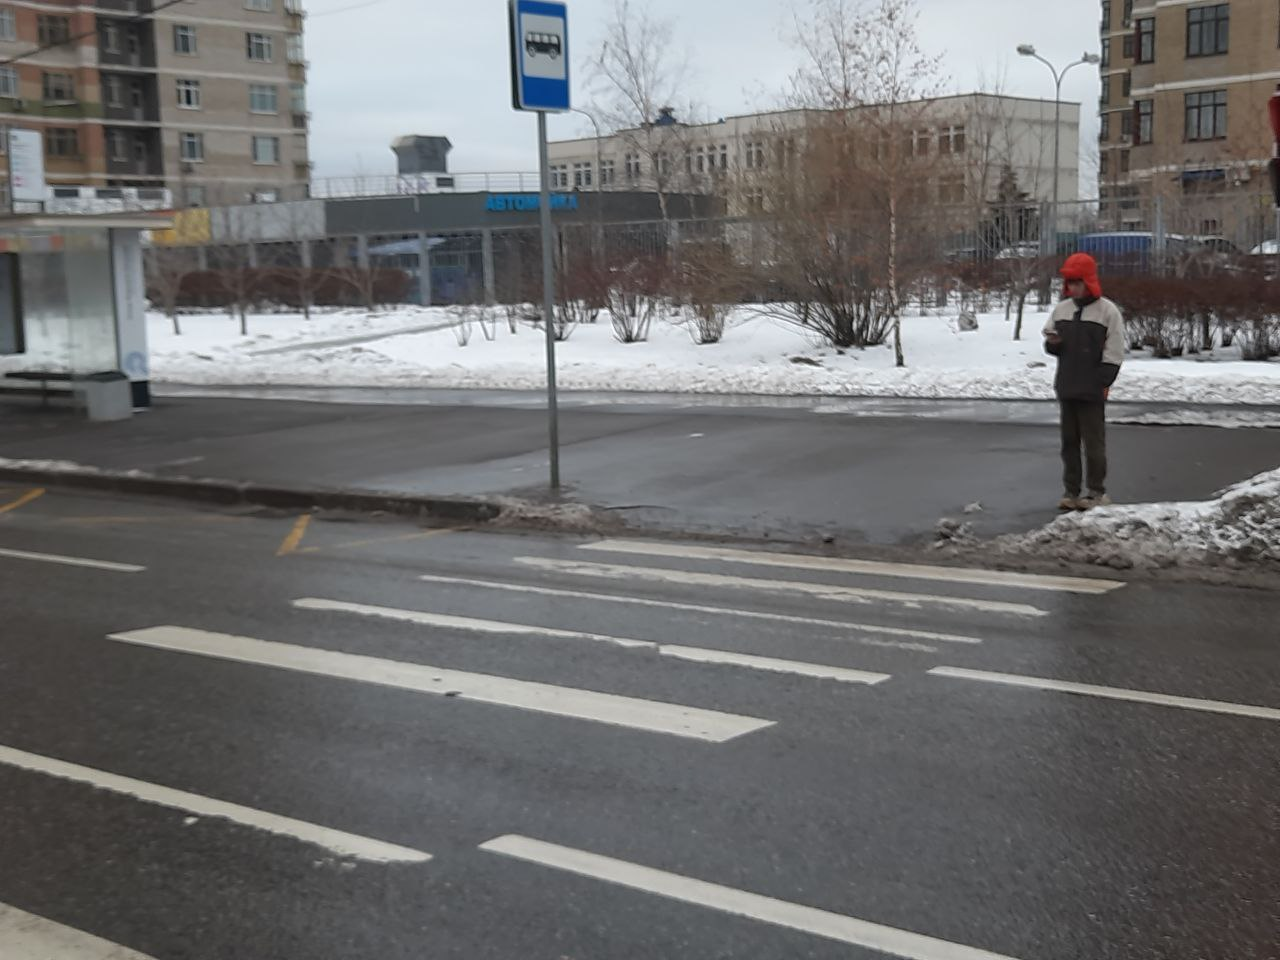sombie: (1035, 250, 1148, 516)
